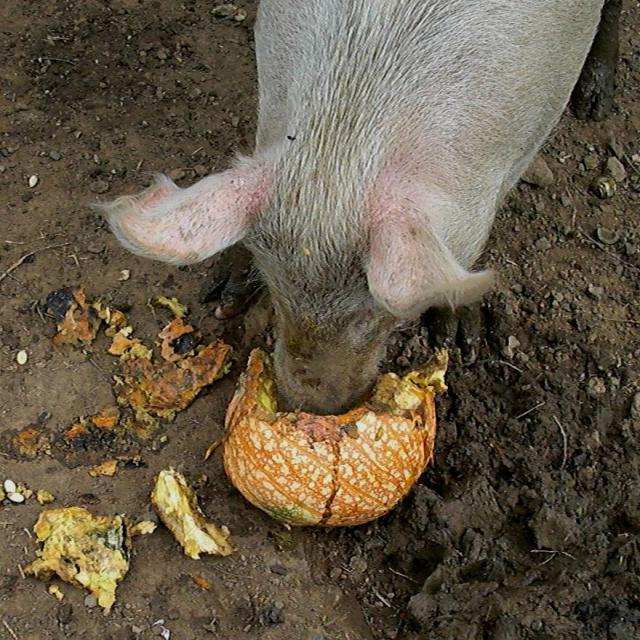pig: (101, 1, 602, 413)
